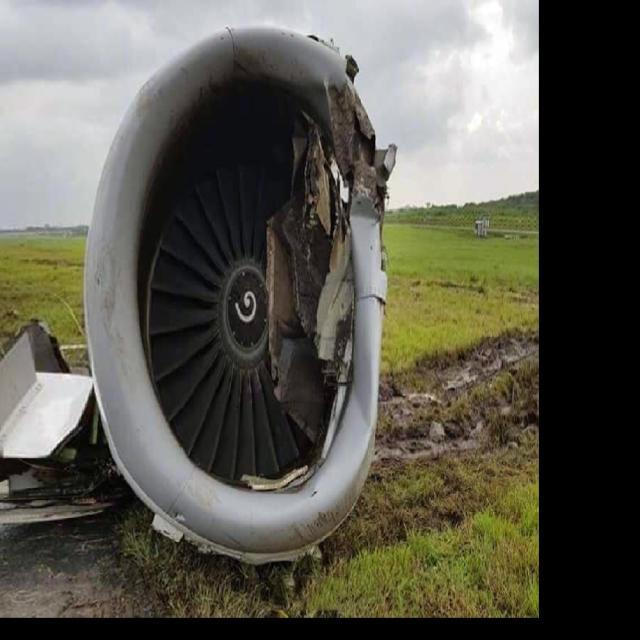dent: (342, 310, 388, 451), (349, 202, 382, 247)
